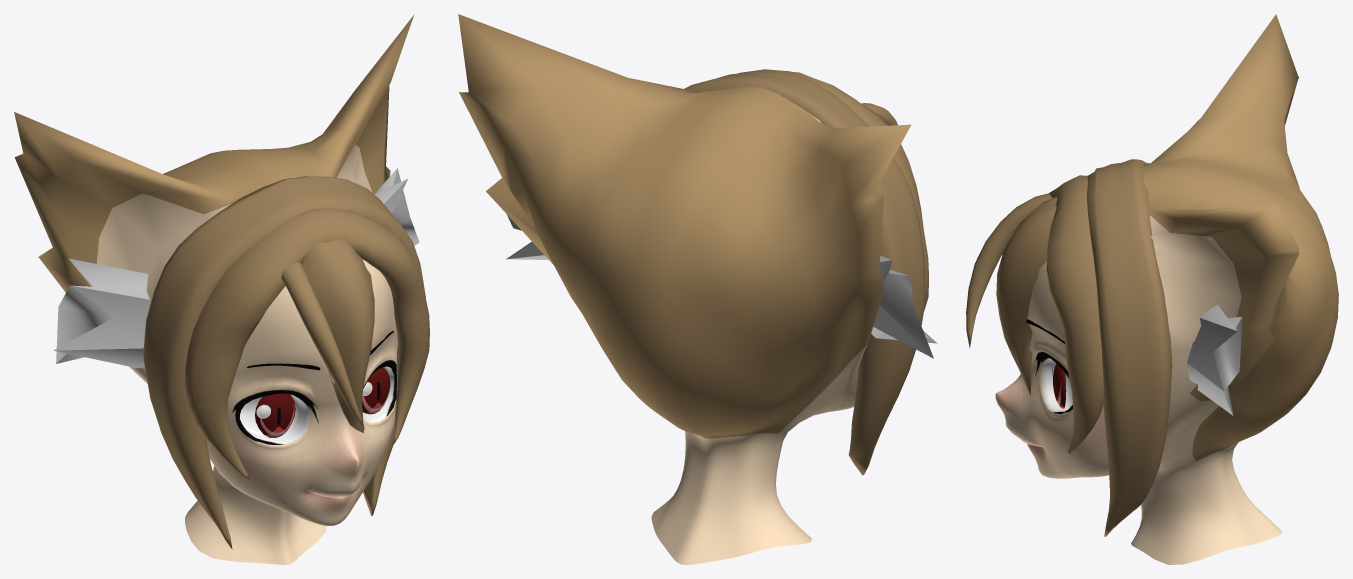
The model's file is mask3.glb.
The picture shows the model from 3 angles, left to right: view 1: azimuth 30°, elevation 25°; view 2: azimuth 150°, elevation 25°; view 3: azimuth 270°, elevation 25°; orthographic projection. The views are drawn at different scales.
Parts seen in each view (by area): view 1: Object_3, Object_6, Object_2; view 2: Object_3, Object_6, Object_2; view 3: Object_3, Object_6, Object_2.
Part boxes in pixels (x1,y1,x2,y2): Object_3: [14, 14, 414, 564]; Object_6: [143, 176, 429, 549]; Object_2: [53, 168, 419, 368]; Object_3: [458, 14, 911, 564]; Object_6: [684, 69, 928, 475]; Object_2: [506, 215, 937, 358]; Object_3: [995, 14, 1338, 564]; Object_6: [966, 159, 1172, 536]; Object_2: [1187, 305, 1242, 415].
Size of the model in its own units: 3.03 by 3.23 by 2.51.
Materials: 5 (1 with a texture image).
